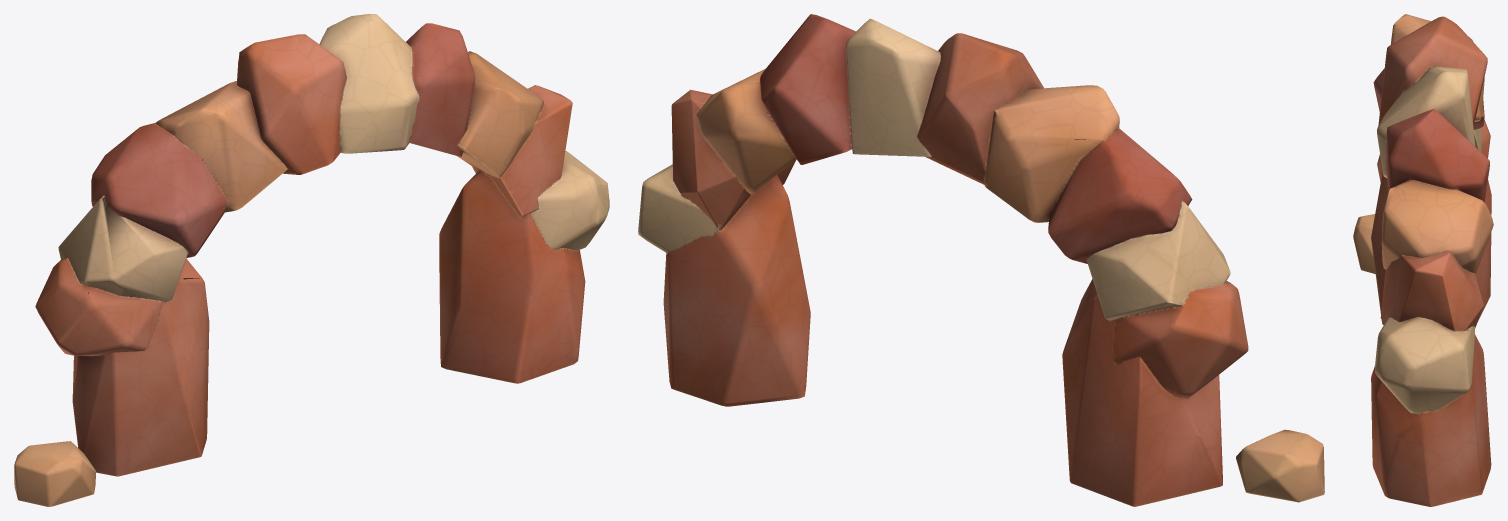
Rendered from Desert_ArcheNaturelle.fbx.
3 views of the same model, side by side, from view 1: azimuth 30°, elevation 25°; view 2: azimuth 150°, elevation 25°; view 3: azimuth 270°, elevation 25° (orthographic). The views are drawn at different scales.
Parts seen in each view (by area): view 1: Desert_ArcheNaturelle; view 2: Desert_ArcheNaturelle; view 3: Desert_ArcheNaturelle.
Part boxes in pixels (<box>): Desert_ArcheNaturelle: <box>14,14,609,506</box>; Desert_ArcheNaturelle: <box>638,14,1324,506</box>; Desert_ArcheNaturelle: <box>1353,14,1493,506</box>.
Bounding box in the file's own units: 2900 × 1703 × 621.
Materials: 1 (1 with a texture image).
